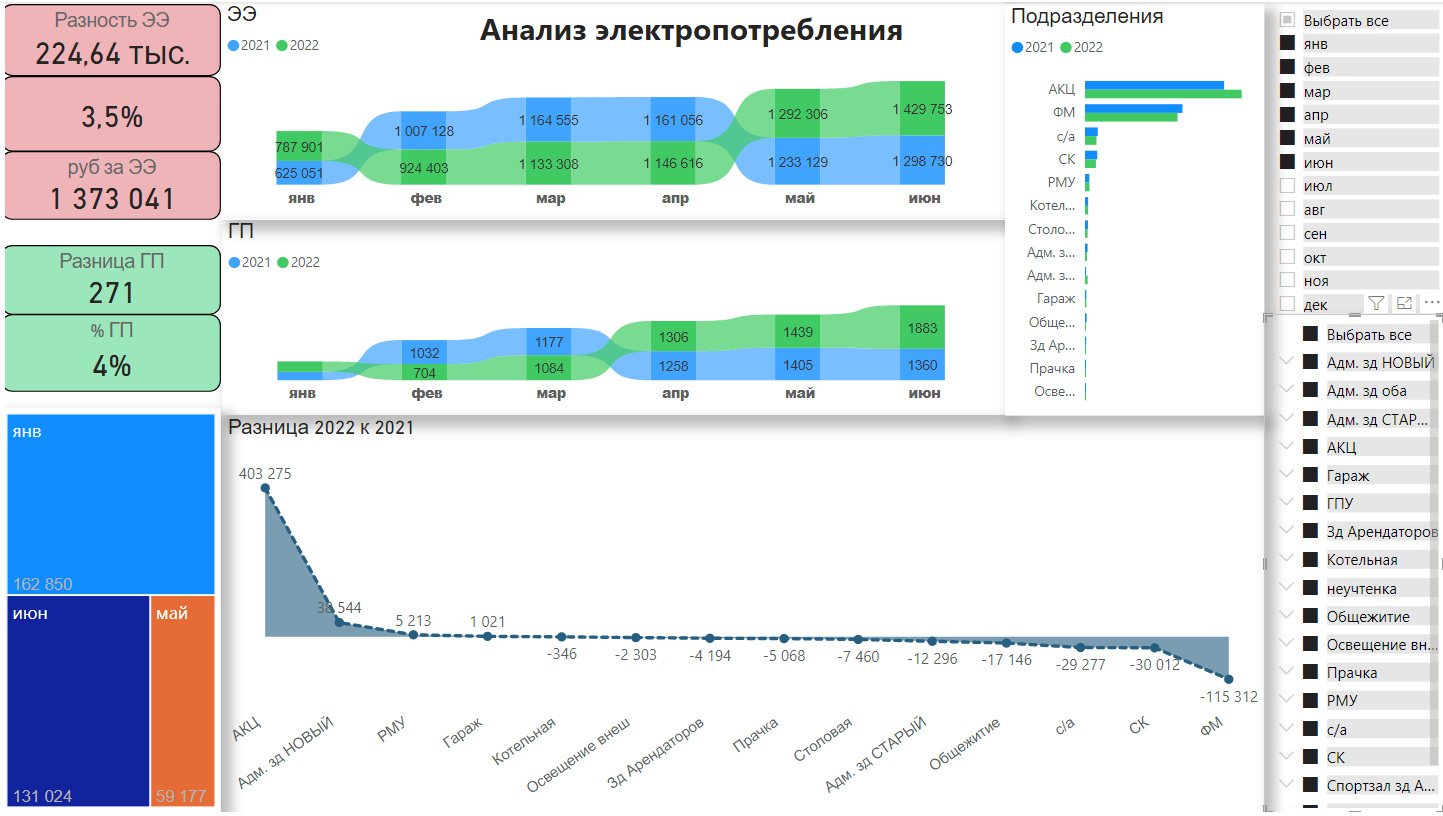

The dashboard page shown, as its layout file describes it:
{"tool":"powerbi","page":{"name":"Дашборд ЭЭ","canvas":[1280,720],"ordinal":0},"visuals":[{"type":"ribbonChart","title":"ЭЭ","fields":{"Category":["ээ.месяц_назв"],"Series":["ээ.Год"],"Y":["Sum(ээ.Расход ЭЭ)"]},"box":[195.4,0,694.7,192.7],"z":0},{"type":"stackedAreaChart","title":"Разница 2022 к 2021","fields":{"Category":["ээ.Подразделение"],"Y":["ээ.Разность_ээ"]},"box":[196.3,366.6,924.1,353.2],"z":1000},{"type":"slicer","fields":{"Values":["МигрПерс.Месяц_назв"]},"box":[1120.8,0,159.6,287.3],"z":2000},{"type":"card","title":"Разность ЭЭ","fields":{"Values":["ээ.Разность_ээ"]},"box":[0,1.9,194.7,63.6],"z":3000},{"type":"card","fields":{"Values":["ээ.% кВтч"]},"box":[0,65.5,194.7,66.5],"z":4000},{"type":"card","title":"руб за ЭЭ","fields":{"Values":["ээ.руб за ээ"]},"box":[0,132,194.7,60.7],"z":5000},{"type":"ribbonChart","title":"ГП","fields":{"Category":["ГП.Месяц_назв"],"Y":["Sum(ГП.ГП)"],"Series":["ГП.Год"]},"box":[196.3,192.7,693.8,173.9],"z":6000},{"type":"card","title":"Разница ГП","fields":{"Values":["ГП.разница ГП"]},"box":[0,215.1,194.5,61.8],"z":7000},{"type":"card","title":"% ГП","fields":{"Values":["ГП.% ГП"]},"box":[0,277,194.5,69],"z":8000},{"type":"clusteredBarChart","title":"Подразделения","fields":{"Category":["ээ.Подразделение"],"Y":["Sum(ээ.Расход ЭЭ)"],"Series":["ээ.Год"]},"box":[890.1,1.8,230.4,364.8],"z":9000},{"type":"slicer","fields":{"Values":["Подразделения.Подразделение","газ.Подразделение"]},"box":[1119.9,276.7,160.5,443.3],"z":14000},{"type":"treemap","title":"ЭЭ","fields":{"Group":["ээ.месяц_назв"],"Values":["ээ.Разность_ээ"]},"box":[0,360.3,195.4,359.4],"z":15000},{"type":"textbox","box":[419.4,0,400.8,47.9],"z":15001}]}

Visuals, with their boxes in screenshot pixels (x1, y1, x2, y2), scaled from the page's 1280x720 canvas onto the 1443x816 screenshot:
"ЭЭ" ribbonChart: locate(220, 0, 1003, 218)
"Разница 2022 к 2021" stackedAreaChart: locate(221, 415, 1263, 815)
slicer - МигрПерс.Месяц_назв: locate(1264, 0, 1442, 326)
"Разность ЭЭ" card: locate(0, 2, 219, 74)
card - ээ.% кВтч: locate(0, 74, 219, 150)
"руб за ЭЭ" card: locate(0, 150, 219, 218)
"ГП" ribbonChart: locate(221, 218, 1003, 415)
"Разница ГП" card: locate(0, 244, 219, 314)
"% ГП" card: locate(0, 314, 219, 392)
"Подразделения" clusteredBarChart: locate(1003, 2, 1263, 415)
slicer - Подразделения.Подразделение x газ.Подразделение: locate(1263, 314, 1442, 815)
"ЭЭ" treemap: locate(0, 408, 220, 815)
textbox: locate(473, 0, 925, 54)
